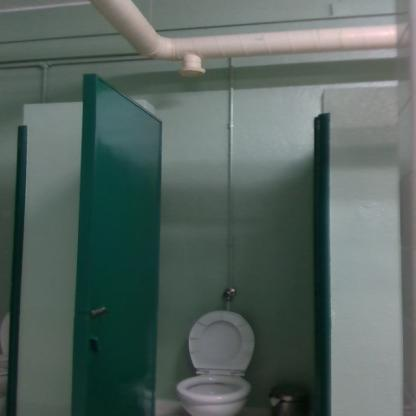open: (46, 41, 370, 416)
